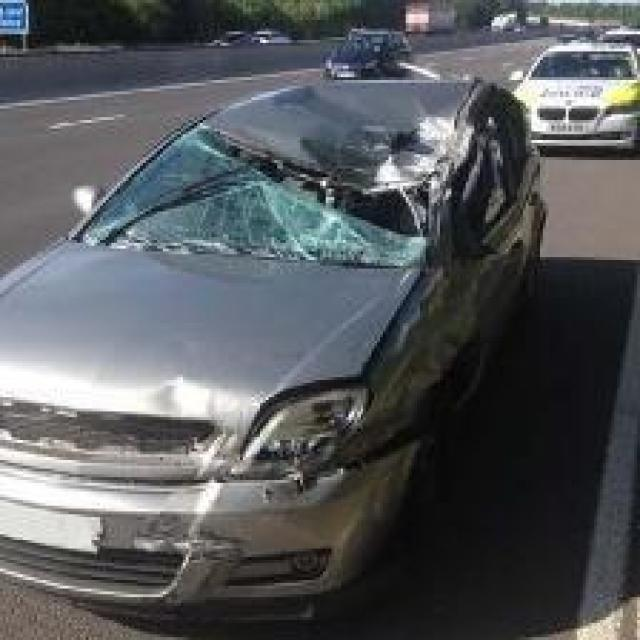damaged: (6, 377, 432, 600), (71, 85, 552, 278), (362, 283, 498, 380)
